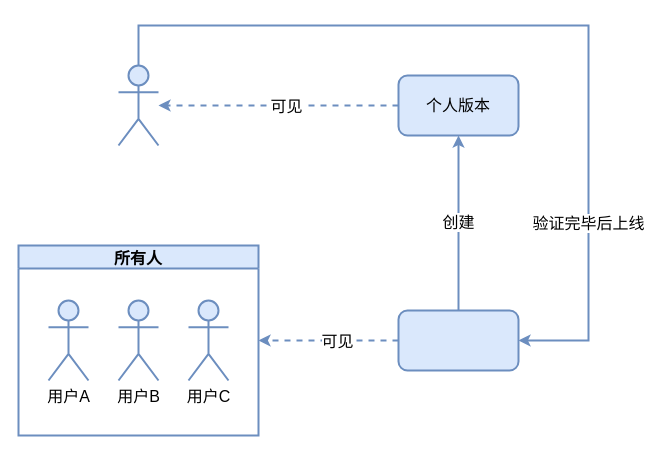
Some shapes in this 661 by 453 pixel diagram are drawn without their labels. The shapes that lost their labels are listed below. From the top down, each one's centre as x and y in pixels, then its label:
pixel 138 105: 当前配置人员
pixel 458 340: 全局版本
